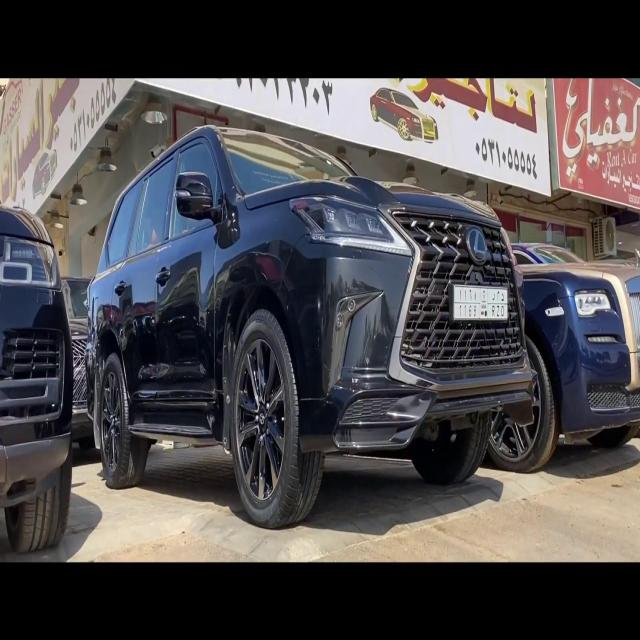license_plate: (450, 278, 512, 326), (586, 383, 629, 415)
